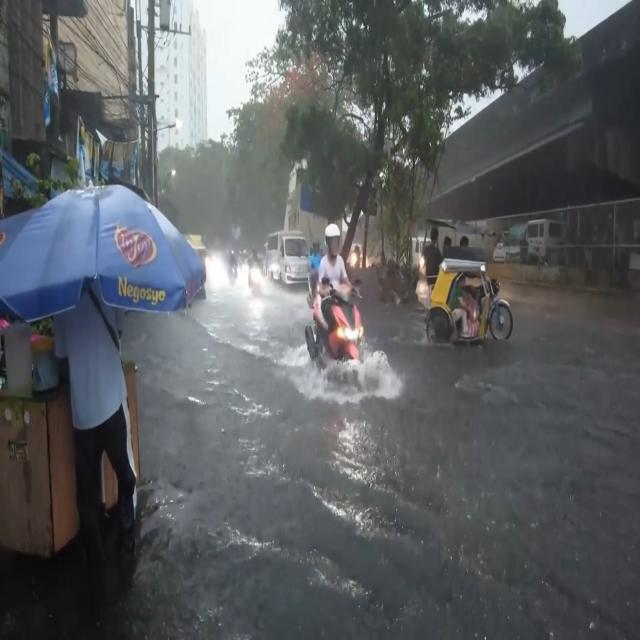half: (324, 221, 341, 256), (312, 239, 321, 255)
